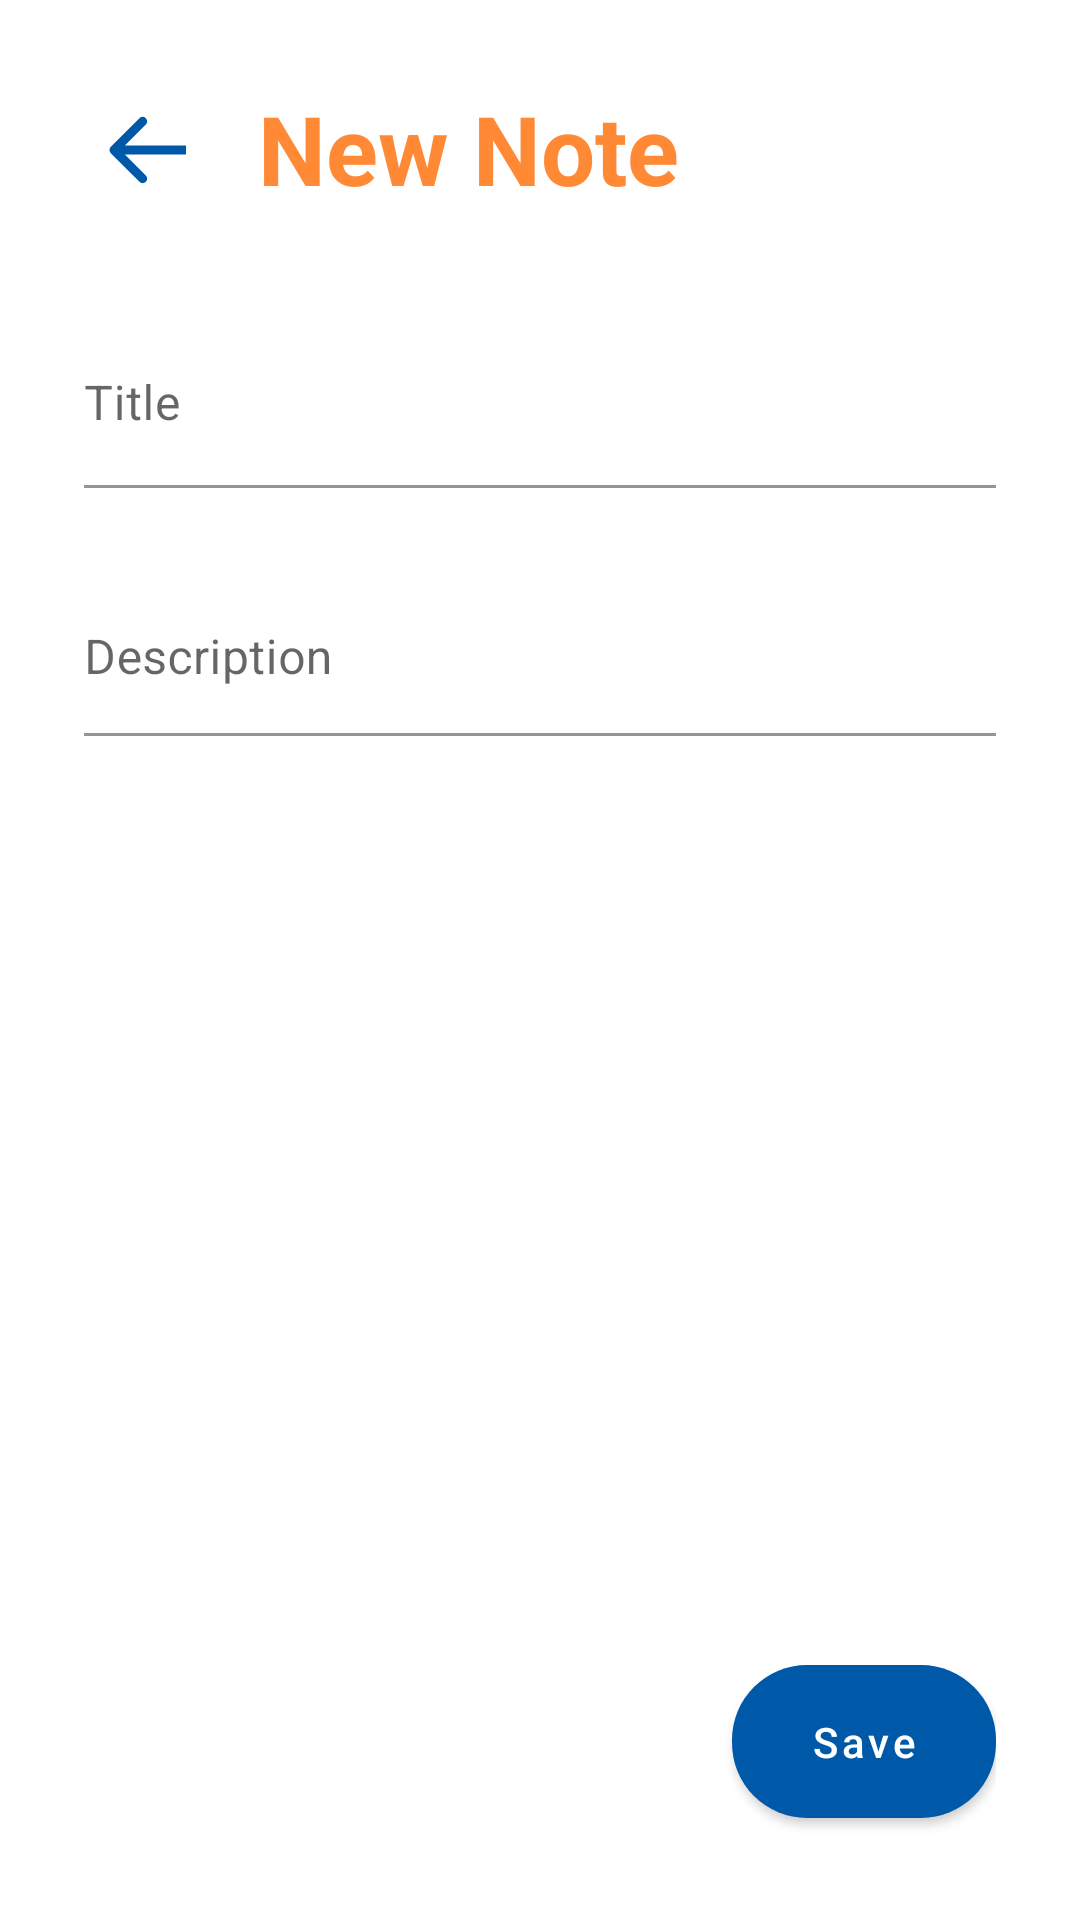

Named icons in this screenshot (1080x1920) and their centers, [x,y]:
arrow back: [147,150]
